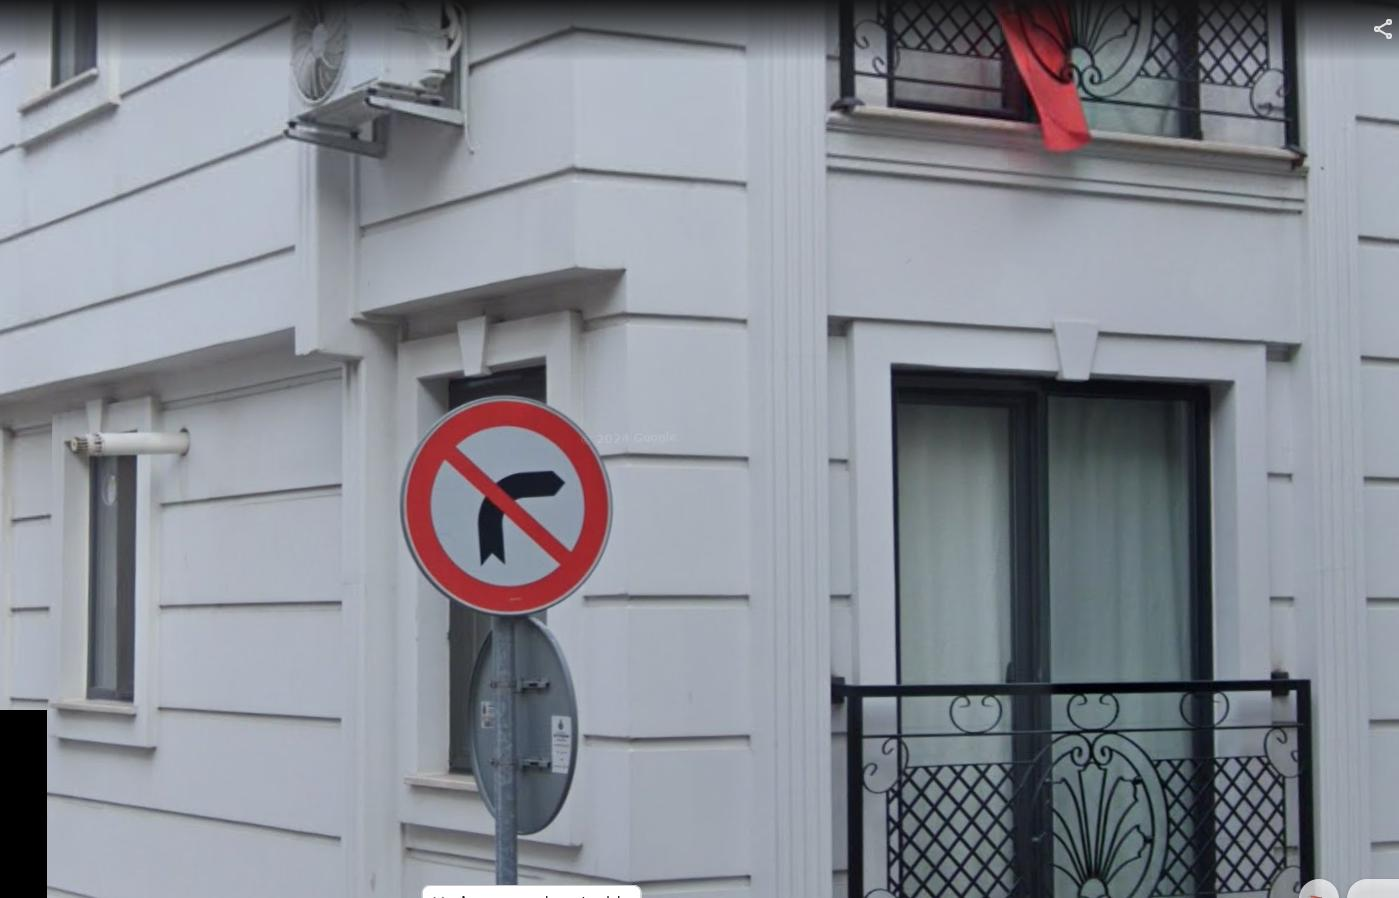rightturnsareforbidden: (406, 398, 613, 605)
